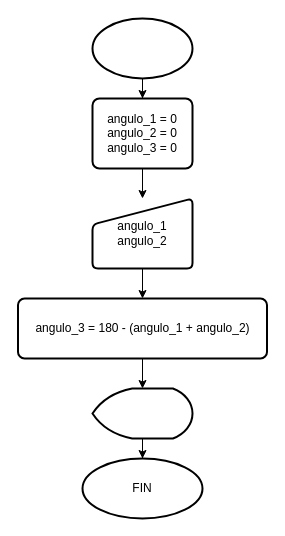
Image size: 285x536. Some labels were removed from this diagram. The centre of each missing label's shape, as x and y in pixels:
"angulo_3" goes at point (142, 413).
"INICIO" goes at point (142, 48).
